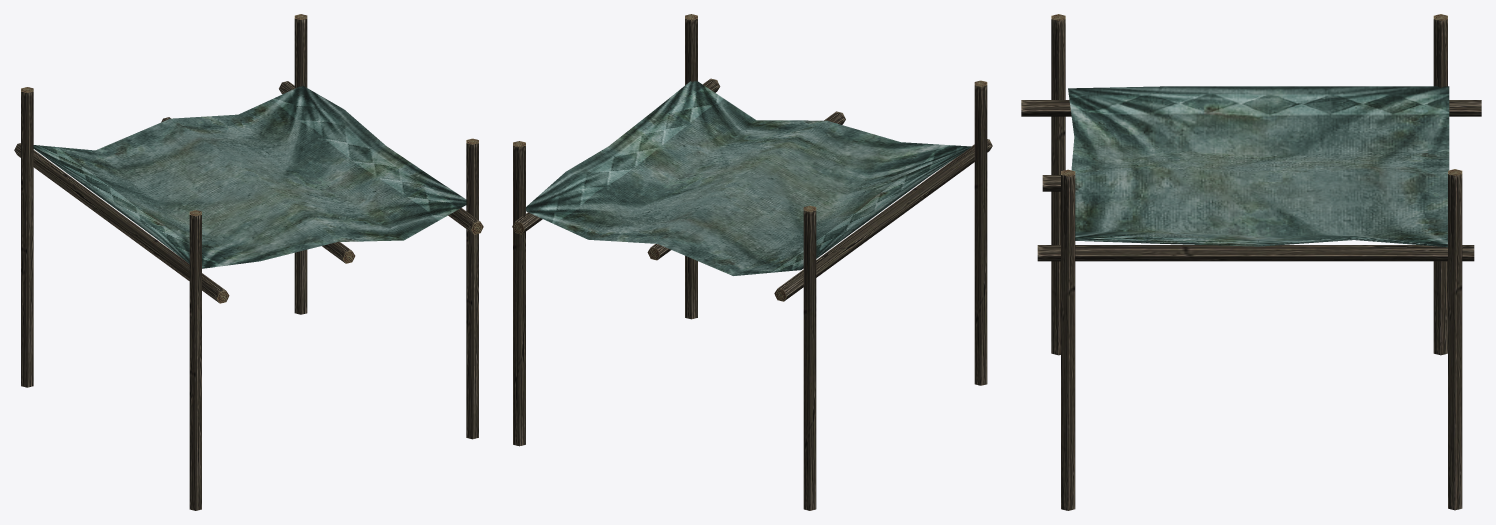
The model's file is Shed01_Build_004.FBX.
3 renders of one model, left to right at view 1: azimuth 30°, elevation 25°; view 2: azimuth 150°, elevation 25°; view 3: azimuth 270°, elevation 25°, orthographic. The views are drawn at different scales.
Parts seen in each view (by area): view 1: Shed01_Build_004; view 2: Shed01_Build_004; view 3: Shed01_Build_004.
Part boxes in pixels (<box>): Shed01_Build_004: <box>14,14,483,510</box>; Shed01_Build_004: <box>512,14,992,510</box>; Shed01_Build_004: <box>1021,14,1481,510</box>.
Size of the model in its own units: 488 by 468 by 584.
Materials: 1 (1 with a texture image).
